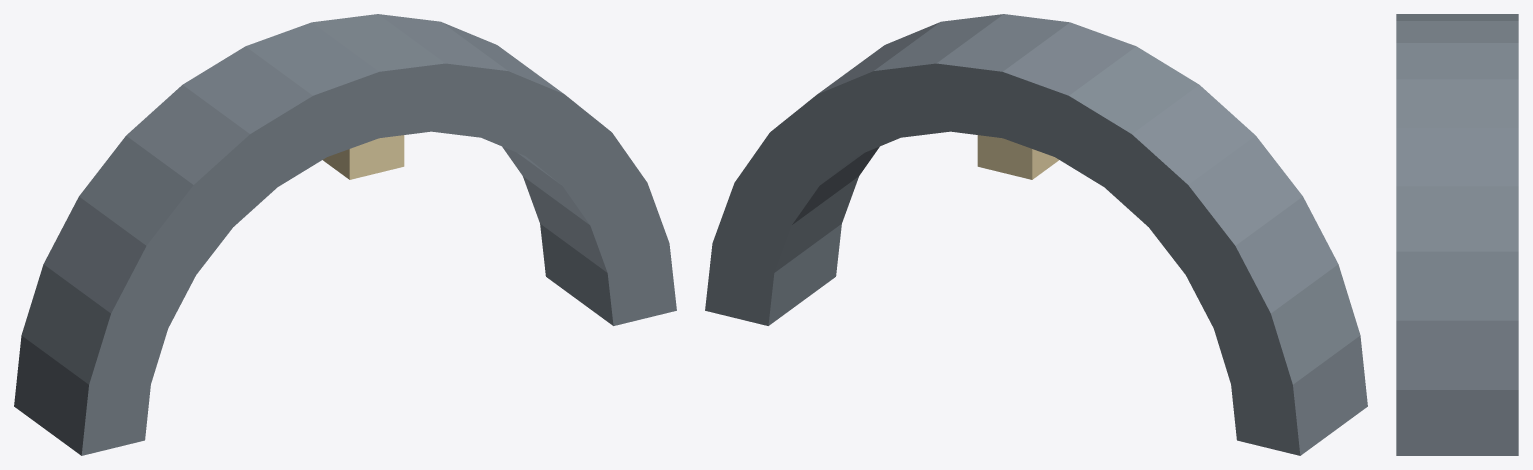
File: archway_segment.glb
The picture shows the model from 3 angles, left to right: view 1: azimuth 30°, elevation 25°; view 2: azimuth 150°, elevation 25°; view 3: azimuth 270°, elevation 25°; orthographic projection. The views are drawn at different scales.
Parts seen in each view (by area): view 1: Archway_Segment; view 2: Archway_Segment; view 3: Archway_Segment.
Boxes of the visible parts, x1,y1,x2,y2 form: Archway_Segment: (14,14,676,455); Archway_Segment: (705,14,1367,455); Archway_Segment: (1396,14,1518,455).
Bounding box in the file's own units: 6.1 × 3.05 × 1.2.
